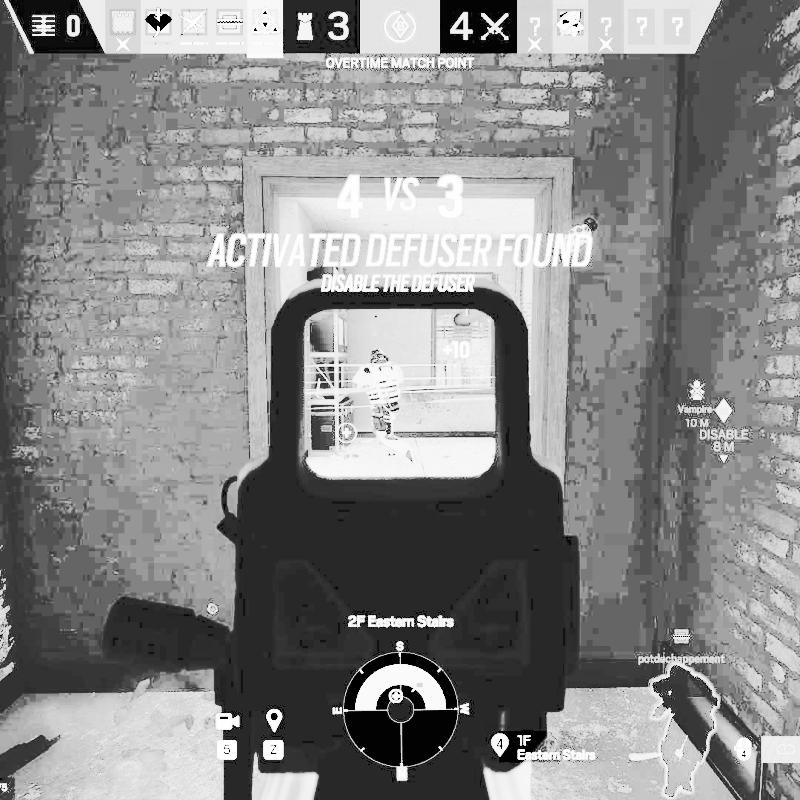Character: (351, 346, 418, 465)
Friend_label: (637, 627, 727, 665), (330, 422, 365, 452)
Head: (368, 347, 390, 364)
